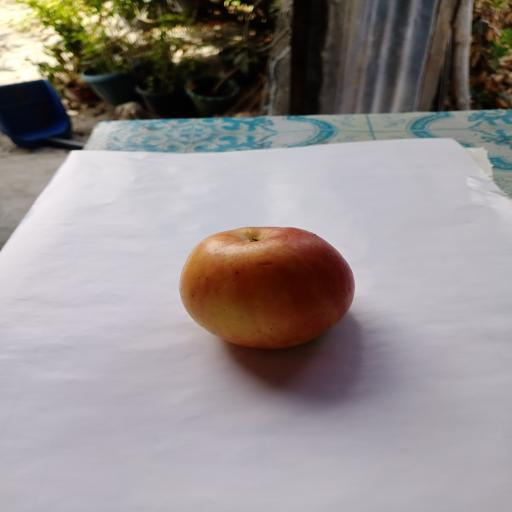apple-ripe: (175, 221, 369, 363)
